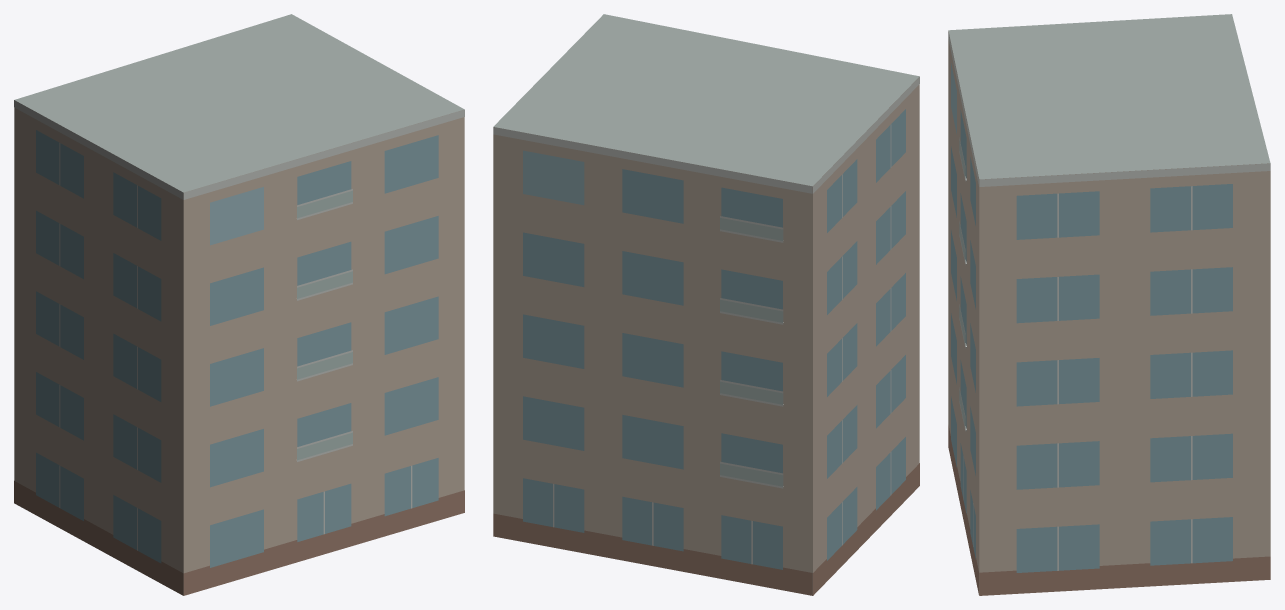
The model's file is survey-upis-32653257.glb.
3 renders of one model, left to right at view 1: azimuth 30°, elevation 25°; view 2: azimuth 150°, elevation 25°; view 3: azimuth 270°, elevation 25°, orthographic. The views are drawn at different scales.
Visible parts, largest first — view 1: survey-upis-32653257.tmp; view 2: survey-upis-32653257.tmp; view 3: survey-upis-32653257.tmp.
Part boxes in pixels (bbox=[...]): survey-upis-32653257.tmp: bbox=[14, 14, 464, 595]; survey-upis-32653257.tmp: bbox=[493, 14, 919, 595]; survey-upis-32653257.tmp: bbox=[948, 14, 1270, 595].
Bounding box in the file's own units: 11.25 × 13.2 × 9.27.
